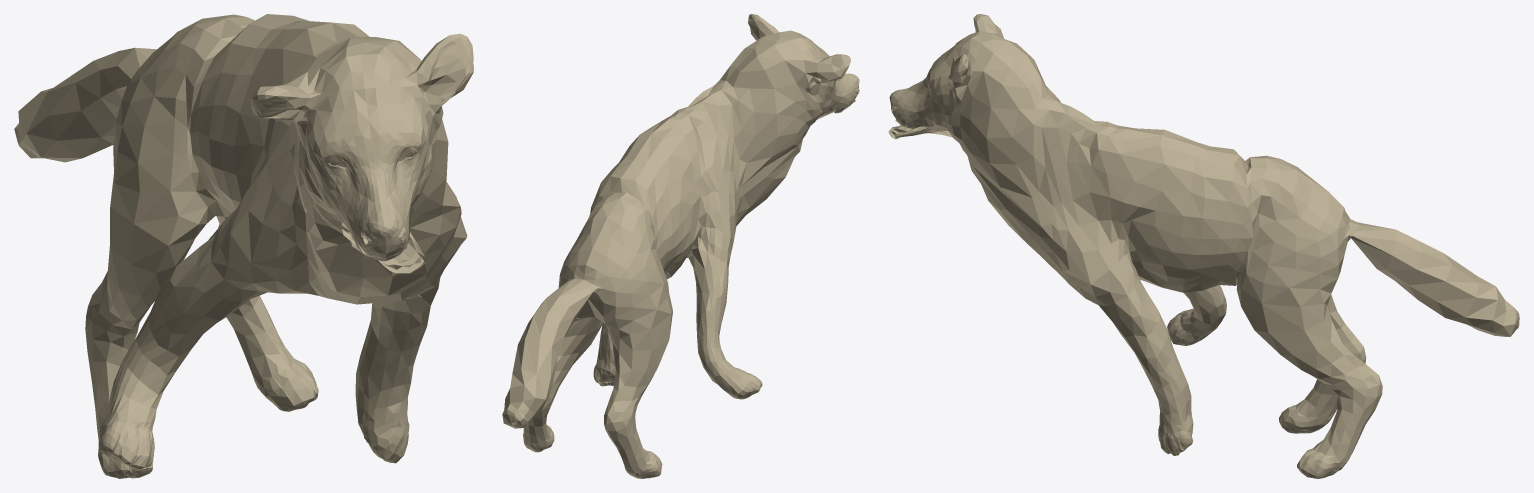
3 renders of one model, left to right at view 1: azimuth 30°, elevation 25°; view 2: azimuth 150°, elevation 25°; view 3: azimuth 270°, elevation 25°, orthographic. The views are drawn at different scales.
Visible parts, largest first — view 1: world; view 2: world; view 3: world.
Part boxes in pixels (x1,y1,x2,y2): world: [14, 14, 473, 478]; world: [502, 14, 859, 478]; world: [888, 14, 1519, 478].
Bounding box in the file's own units: 0.4659 × 0.854 × 1.23.
